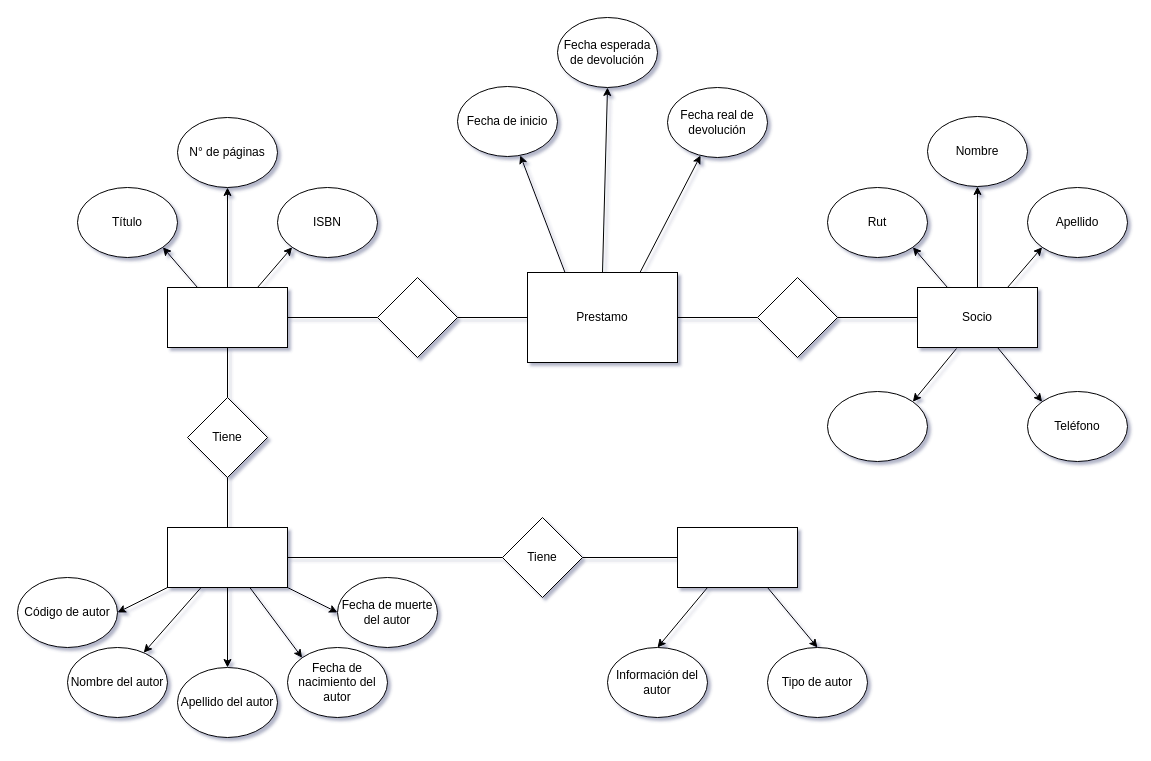
Image size: 1151x761. Some labels were removed from this diagram. Each missing label, with the centre of its shape:
"Autores" belongs at (x=227, y=557).
"Contiene" belongs at (x=417, y=317).
"Dirección" belongs at (x=877, y=426).
"Libro" belongs at (x=227, y=317).
"Solicita" belongs at (x=797, y=317).
"Tipo autor" belongs at (x=737, y=557).
